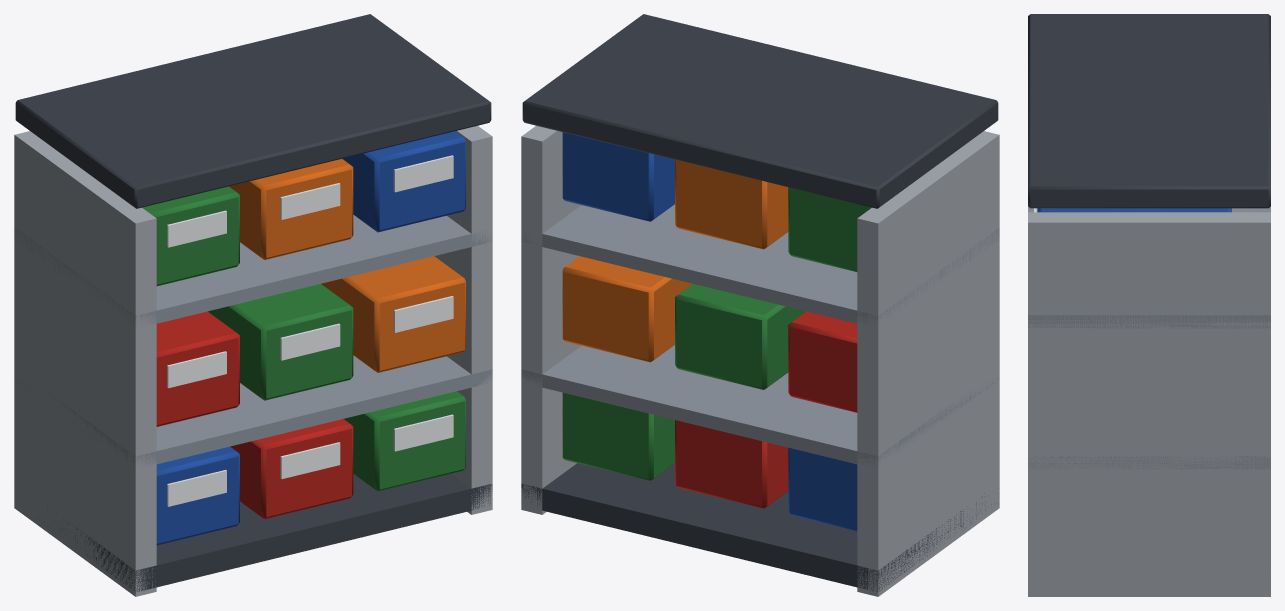
Rendered from engtool_spare_parts_bin.glb.
The picture shows the model from 3 angles, left to right: view 1: azimuth 30°, elevation 25°; view 2: azimuth 150°, elevation 25°; view 3: azimuth 270°, elevation 25°; orthographic projection.
Visible parts, largest first — view 1: engtool_spare_parts_bin; view 2: engtool_spare_parts_bin; view 3: engtool_spare_parts_bin.
Part boxes in pixels (x1,y1,x2,y2): engtool_spare_parts_bin: (14, 14, 492, 596); engtool_spare_parts_bin: (521, 14, 999, 596); engtool_spare_parts_bin: (1028, 14, 1270, 596).
Size of the model in its own units: 0.85 by 0.93 by 0.5.
